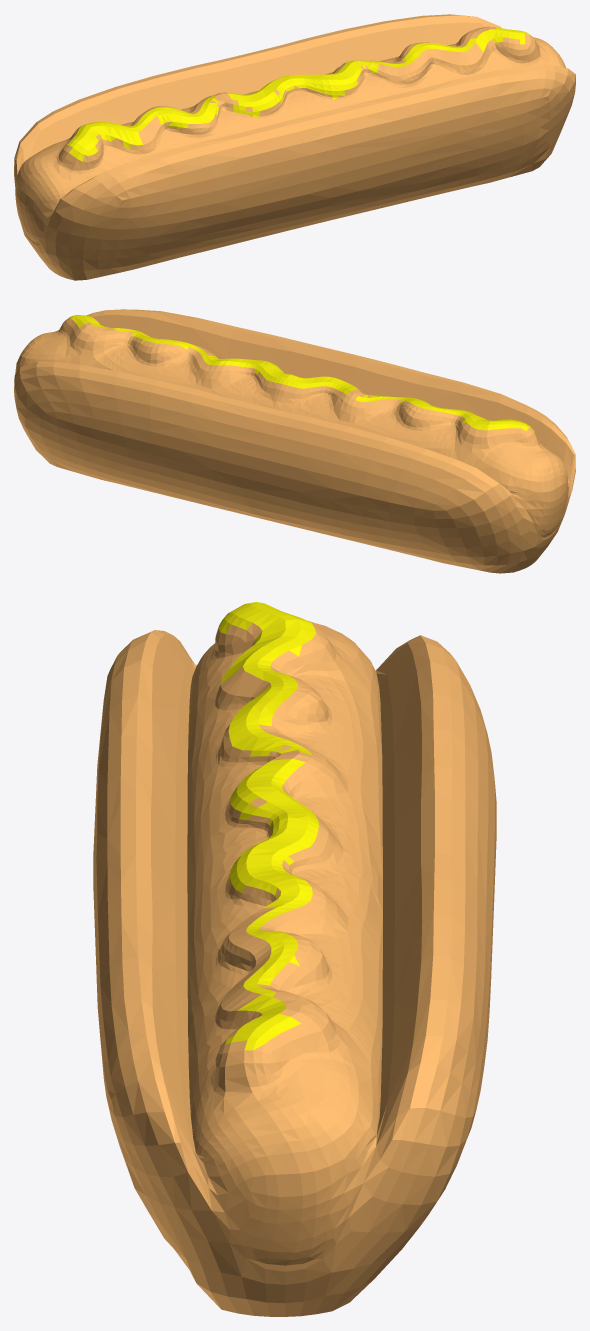
The model's file is Hotdog.fbx.
3 views of the same model, one above another, from view 1: azimuth 30°, elevation 25°; view 2: azimuth 150°, elevation 25°; view 3: azimuth 270°, elevation 25° (orthographic). The views are drawn at different scales.
Parts seen in each view (by area): view 1: Object.011; view 2: Object.011; view 3: Object.011.
Part boxes in pixels (bbox=[...]): Object.011: bbox=[14, 14, 575, 280]; Object.011: bbox=[14, 309, 575, 573]; Object.011: bbox=[93, 602, 496, 1316].
Size of the model in its own units: 943 by 226 by 308.
